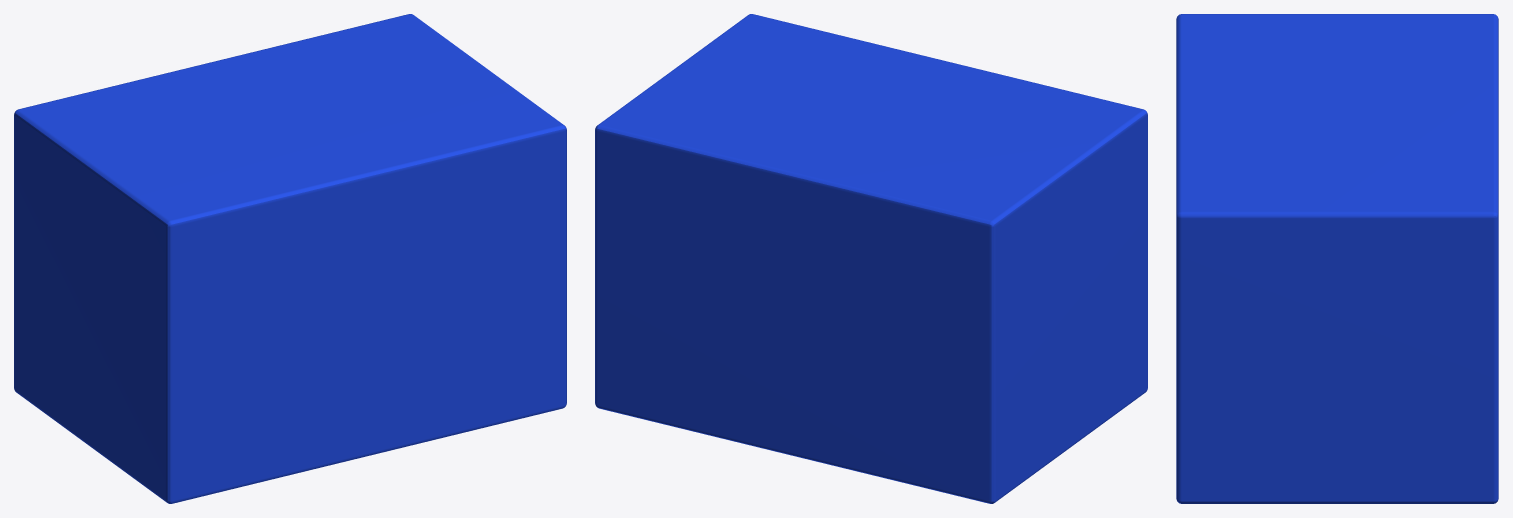
The model's file is Medium_box.fbx.
3 views of the same model, side by side, from view 1: azimuth 30°, elevation 25°; view 2: azimuth 150°, elevation 25°; view 3: azimuth 270°, elevation 25° (orthographic). The views are drawn at different scales.
Visible parts, largest first — view 1: Medium_Box; view 2: Medium_Box; view 3: Medium_Box.
Part boxes in pixels (x1,y1,x2,y2): Medium_Box: (14,14,566,503); Medium_Box: (595,14,1147,503); Medium_Box: (1176,14,1498,503).
Bounding box in the file's own units: 67.14 × 45.4 × 45.4.
